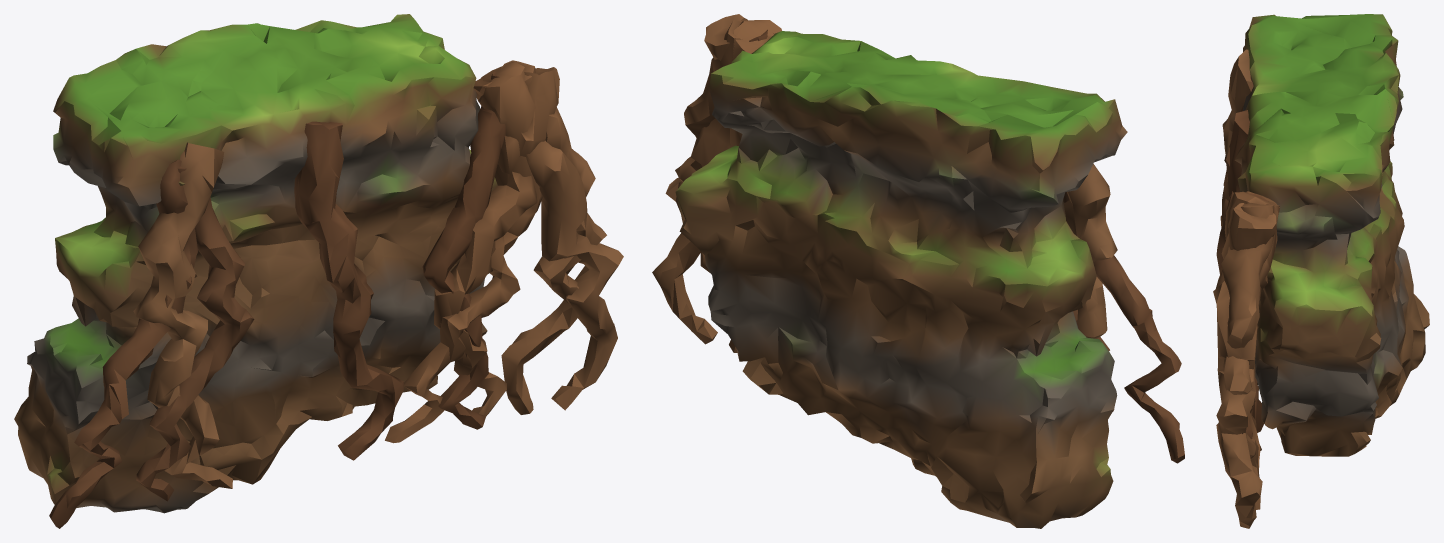
Rendered from glade_root_wall_b.glb.
3 views of the same model, side by side, from view 1: azimuth 30°, elevation 25°; view 2: azimuth 150°, elevation 25°; view 3: azimuth 270°, elevation 25° (orthographic). The views are drawn at different scales.
Parts seen in each view (by area): view 1: glade_root_wall_b; view 2: glade_root_wall_b; view 3: glade_root_wall_b.
Part boxes in pixels (x1,y1,x2,y2): glade_root_wall_b: (14,14,623,528); glade_root_wall_b: (652,14,1184,528); glade_root_wall_b: (1213,14,1429,528).
Size of the model in its own units: 17.44 by 12.82 by 6.59.
